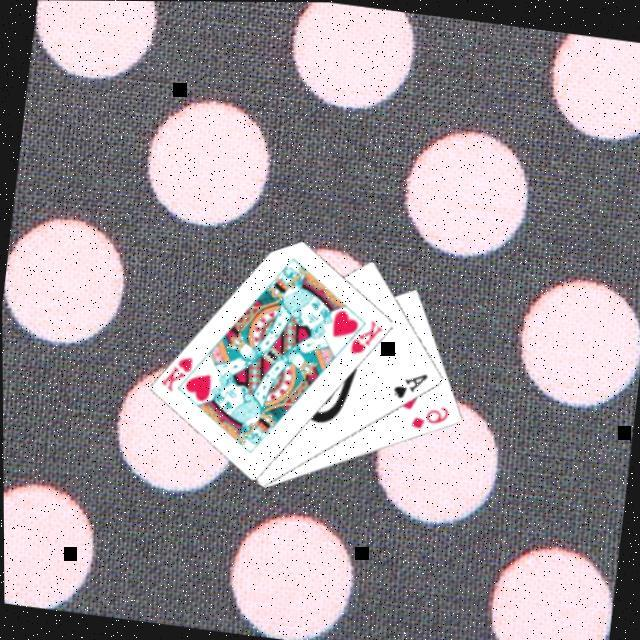6D: (406, 399, 454, 436)
AS: (390, 367, 432, 405)
KH: (157, 350, 198, 398), (347, 314, 388, 360)
